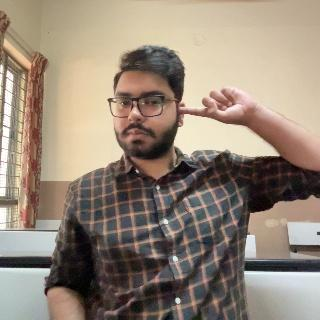Deaf: (180, 83, 269, 135)
Face: (108, 47, 179, 158)
